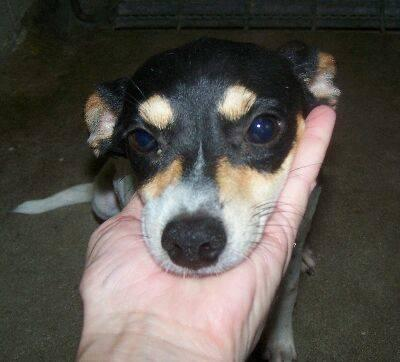dog: (15, 38, 340, 274), (264, 187, 318, 361)
